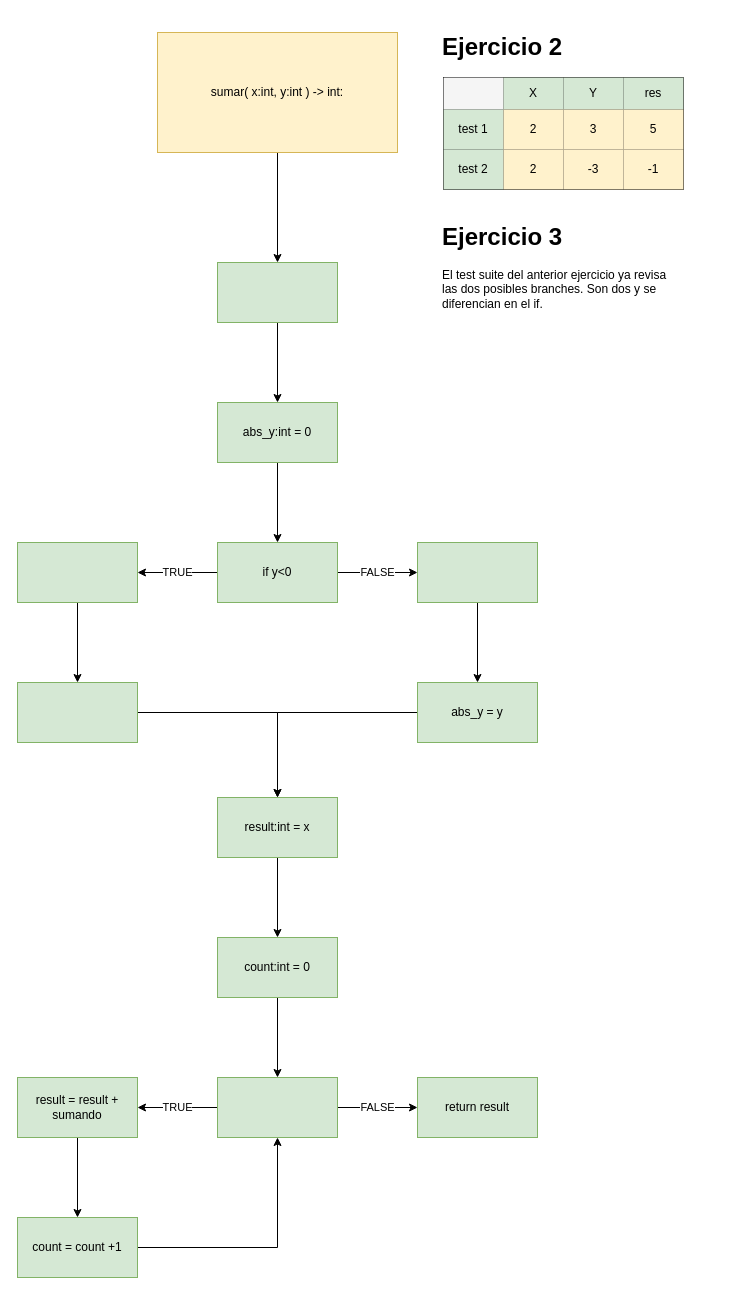
Some shapes in this 755 by 1295 pixel diagram are drawn without their labels. Each missing label, with the centre of its shape:
"abs_y = -y" goes at (77,712).
"sumando = -1" goes at (77,572).
"sumando = 1" goes at (477,572).
"sumando:int = 0" goes at (277,292).
"while (count < abs_y)" goes at (277,1107).
